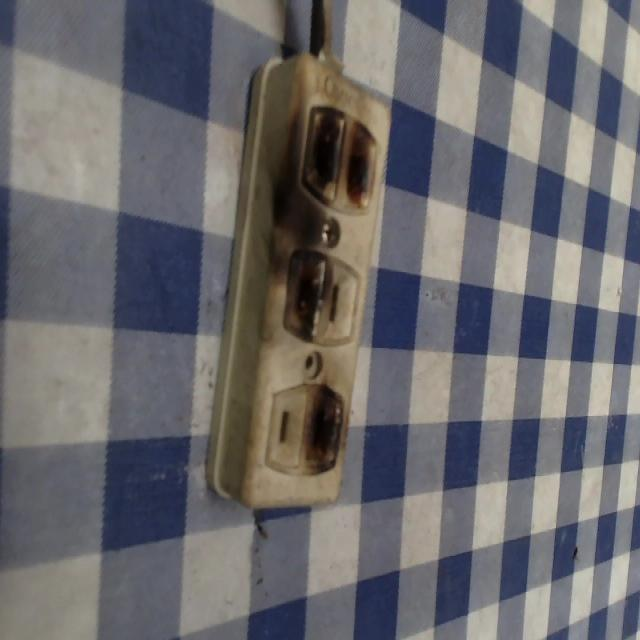-: (297, 100, 381, 215), (280, 246, 329, 346), (301, 382, 347, 482)
